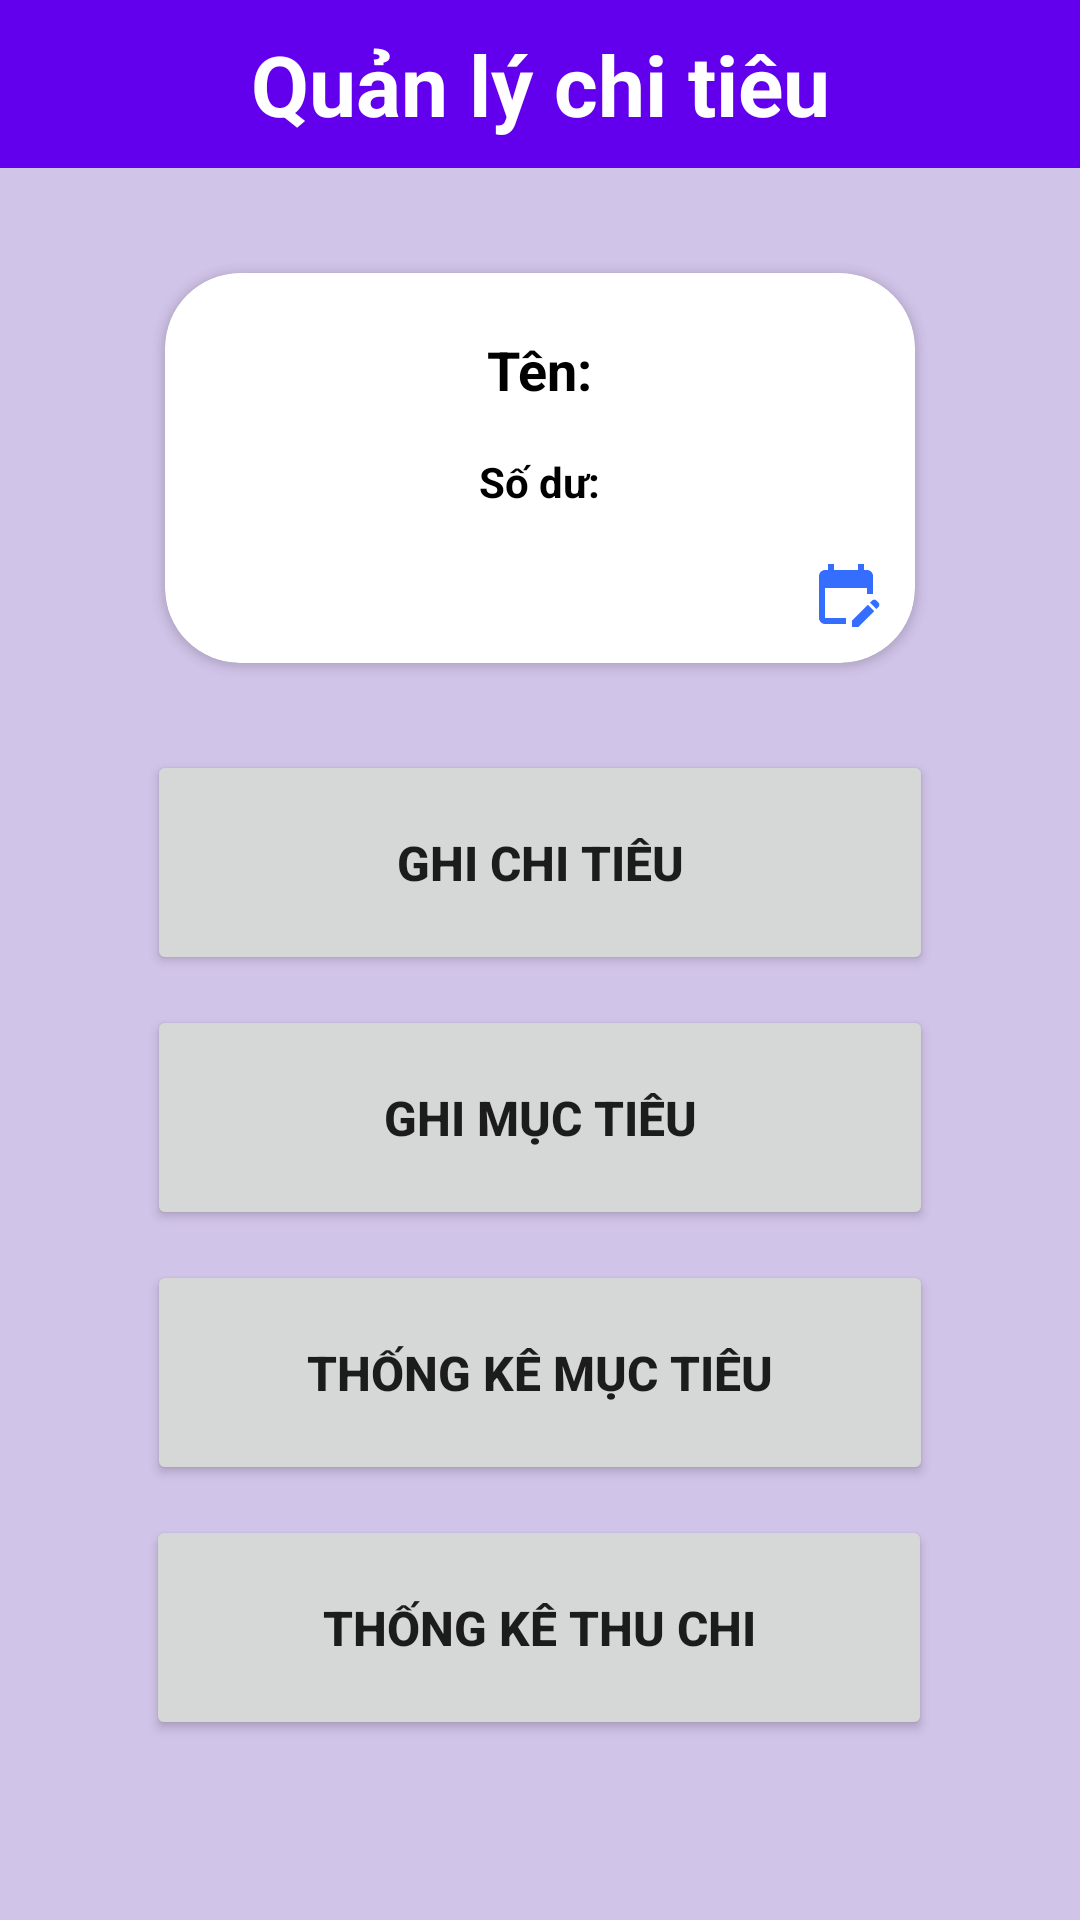

Icon bounding boxes for this 1080w x 1920h phone screenshot, format (left=x1, top=y1, right=x2, bottom=y2):
edit calendar: (left=819, top=564, right=880, bottom=627)
